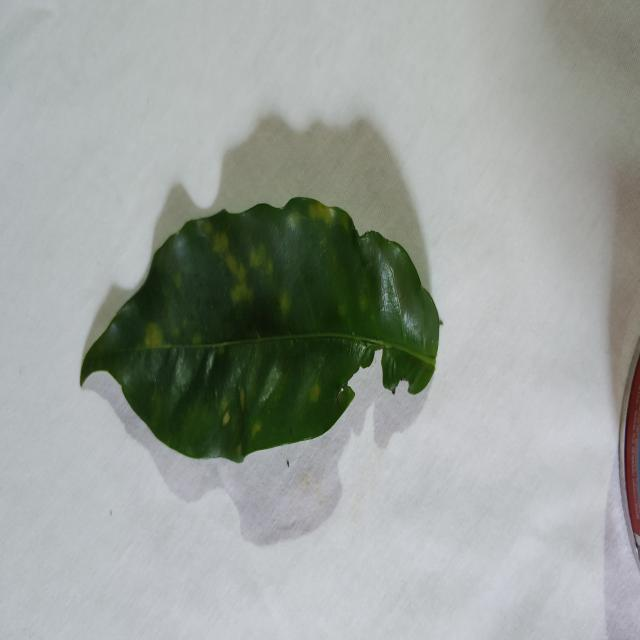Enfermedad-Roya: (79, 197, 443, 466)
